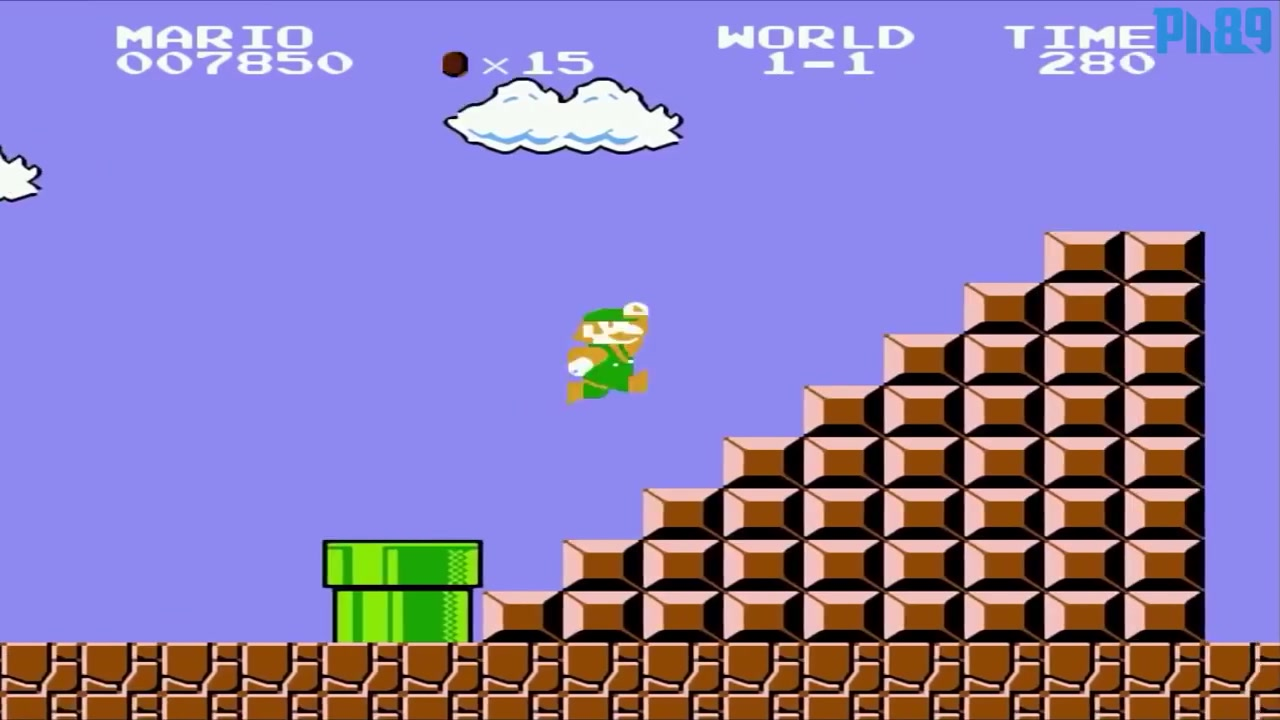mario: (558, 294, 667, 408)
